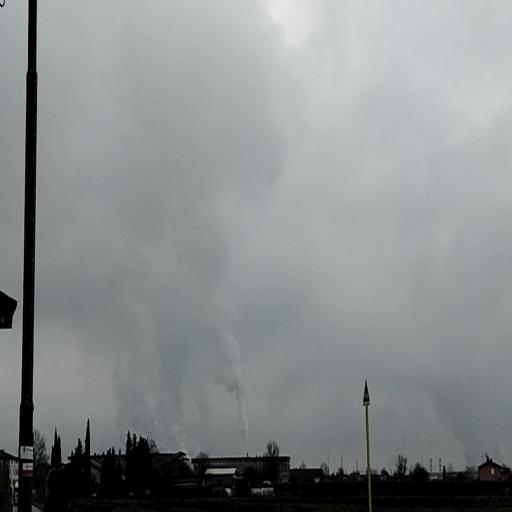leakage: (78, 195, 259, 480)
